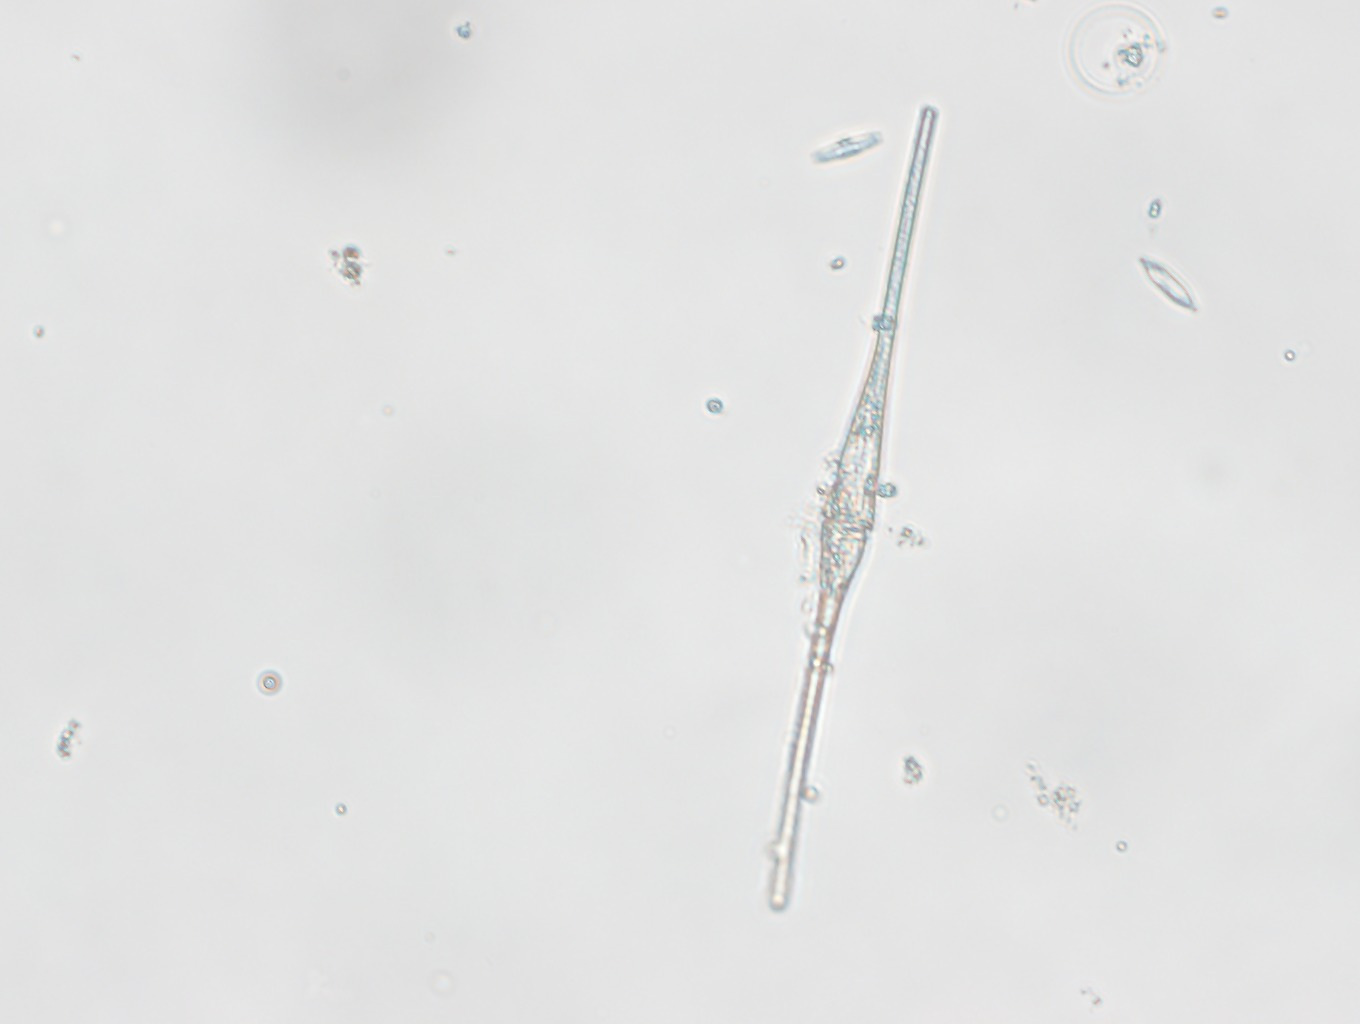ceratium fusus: (765, 97, 936, 914)
